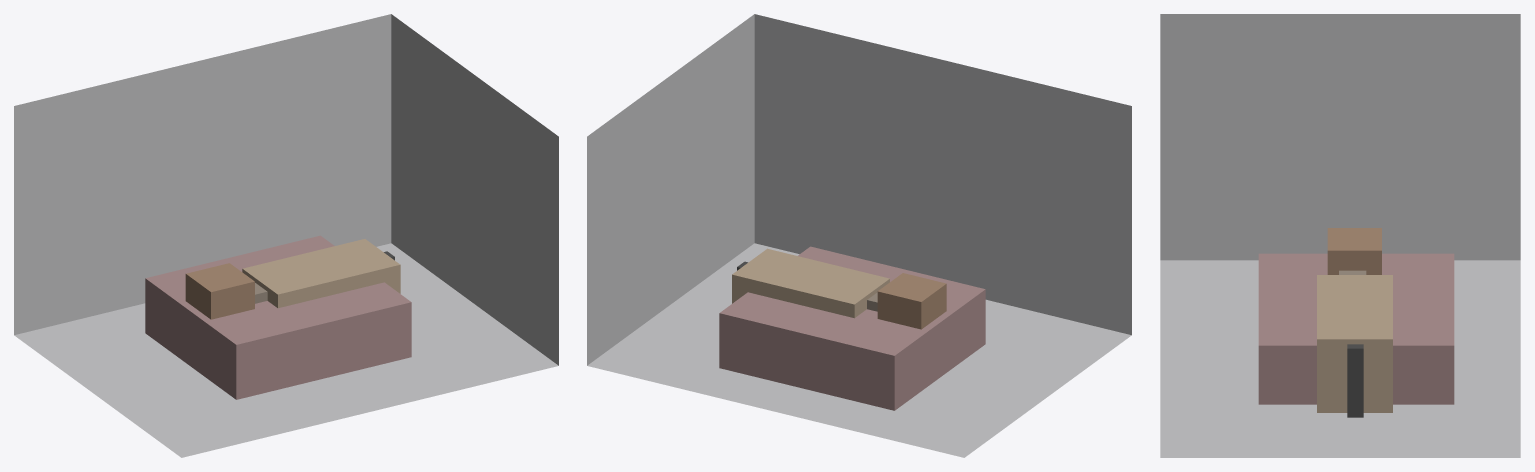
File: optimised_layout.glb
The picture shows the model from 3 angles, left to right: view 1: azimuth 30°, elevation 25°; view 2: azimuth 150°, elevation 25°; view 3: azimuth 270°, elevation 25°; orthographic projection. The views are drawn at different scales.
Parts seen in each view (by area): view 1: room, bed, desk, chair; view 2: room, bed, desk, chair; view 3: room, bed, desk, chair, tv.
Part boxes in pixels (left/top/right/bottom): room: left=14, top=14, right=558, bottom=457; bed: left=145, top=235, right=411, bottom=399; desk: left=242, top=239, right=400, bottom=308; chair: left=185, top=263, right=254, bottom=319; room: left=587, top=14, right=1131, bottom=457; bed: left=719, top=246, right=985, bottom=410; desk: left=732, top=248, right=889, bottom=318; chair: left=877, top=273, right=946, bottom=329; room: left=1160, top=14, right=1520, bottom=457; bed: left=1258, top=253, right=1454, bottom=404; desk: left=1317, top=275, right=1392, bottom=412; chair: left=1327, top=228, right=1381, bottom=274; tv: left=1347, top=344, right=1363, bottom=417.
Size of the model in its own units: 4.31 by 2.5 by 3.31.
